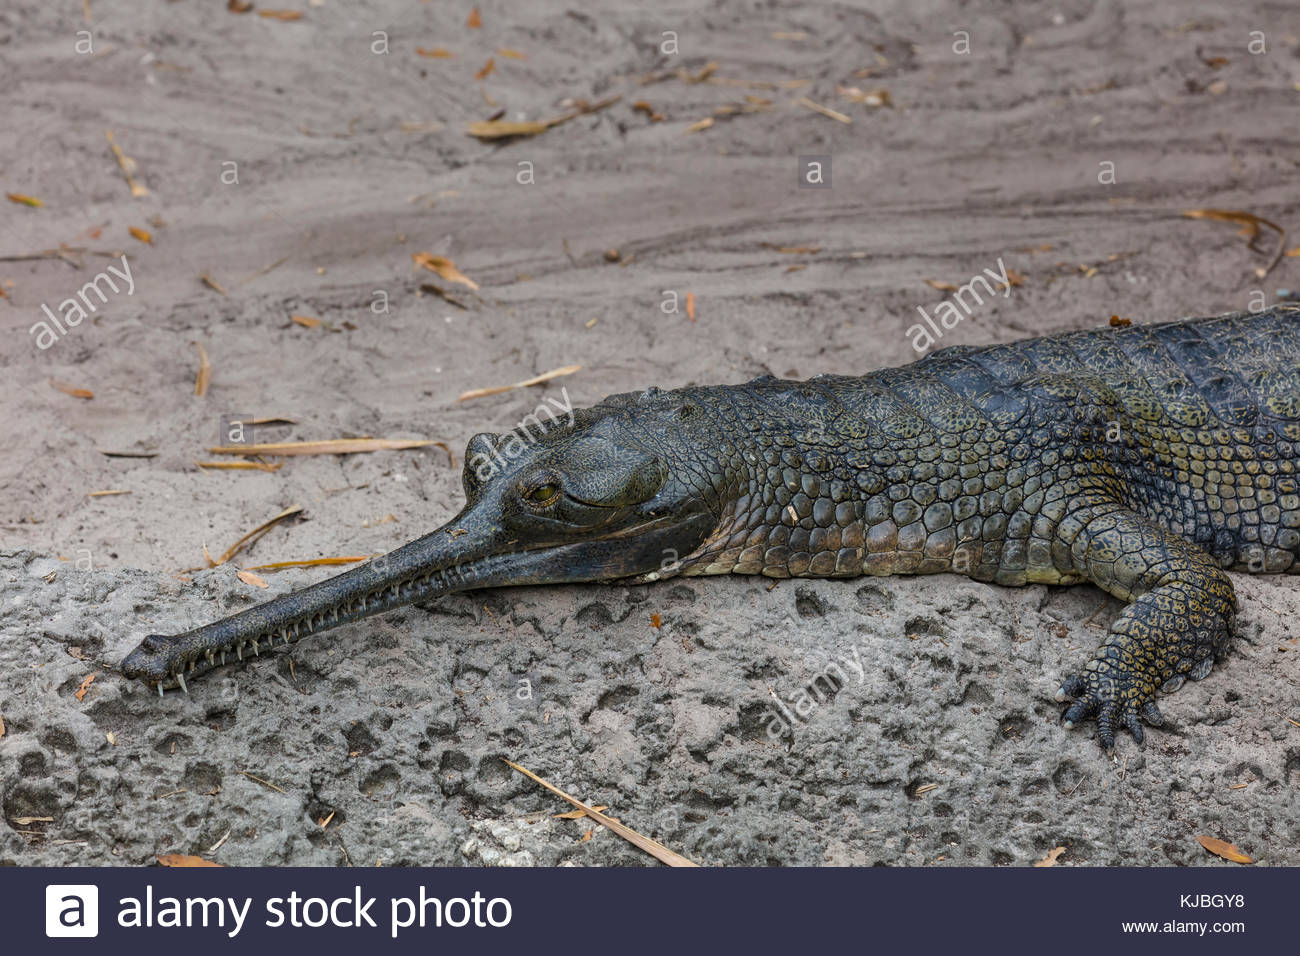Crocodile: (110, 290, 1300, 745)
